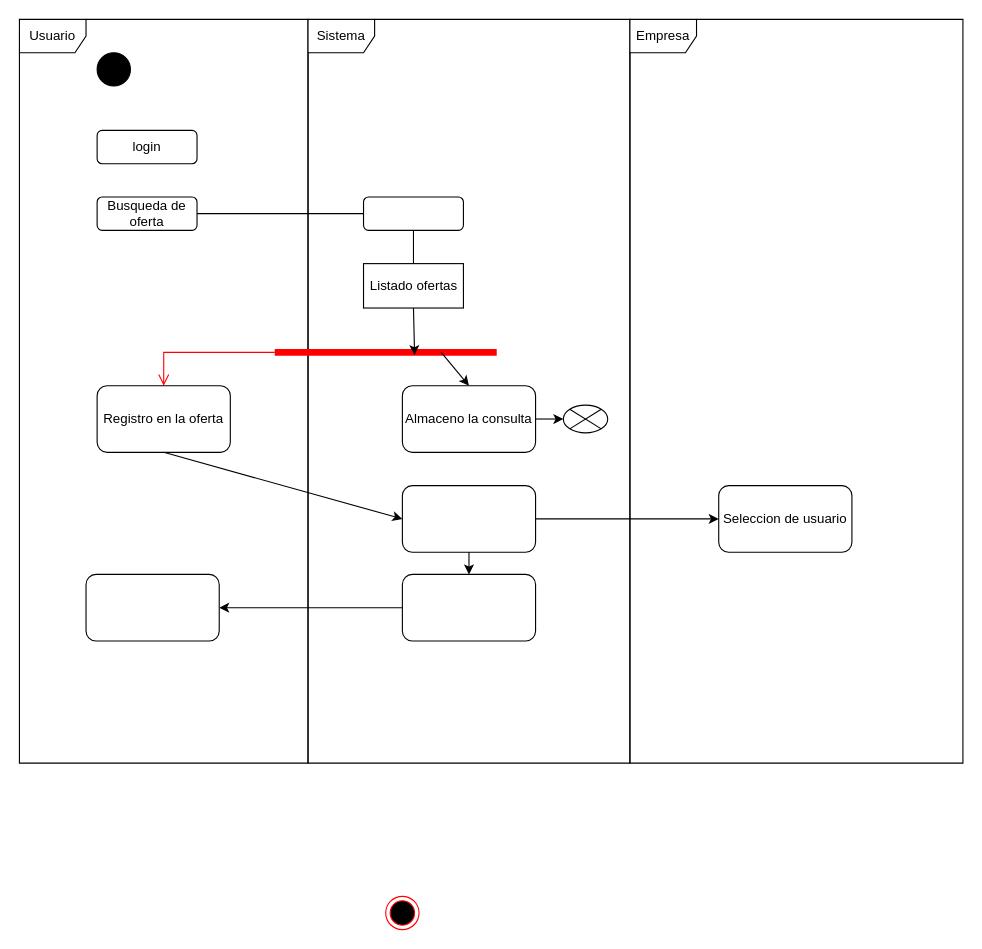
Image size: 982x949. Some labels were removed from this diagram. Each missing label, with the centre of its shape:
"Almaceno el registro" goes at [468,518].
"Buscar en BD" goes at [412,213].
"Envio un correo electronico" goes at [468,607].
"Recibo un correo electronico" goes at [152,607].
